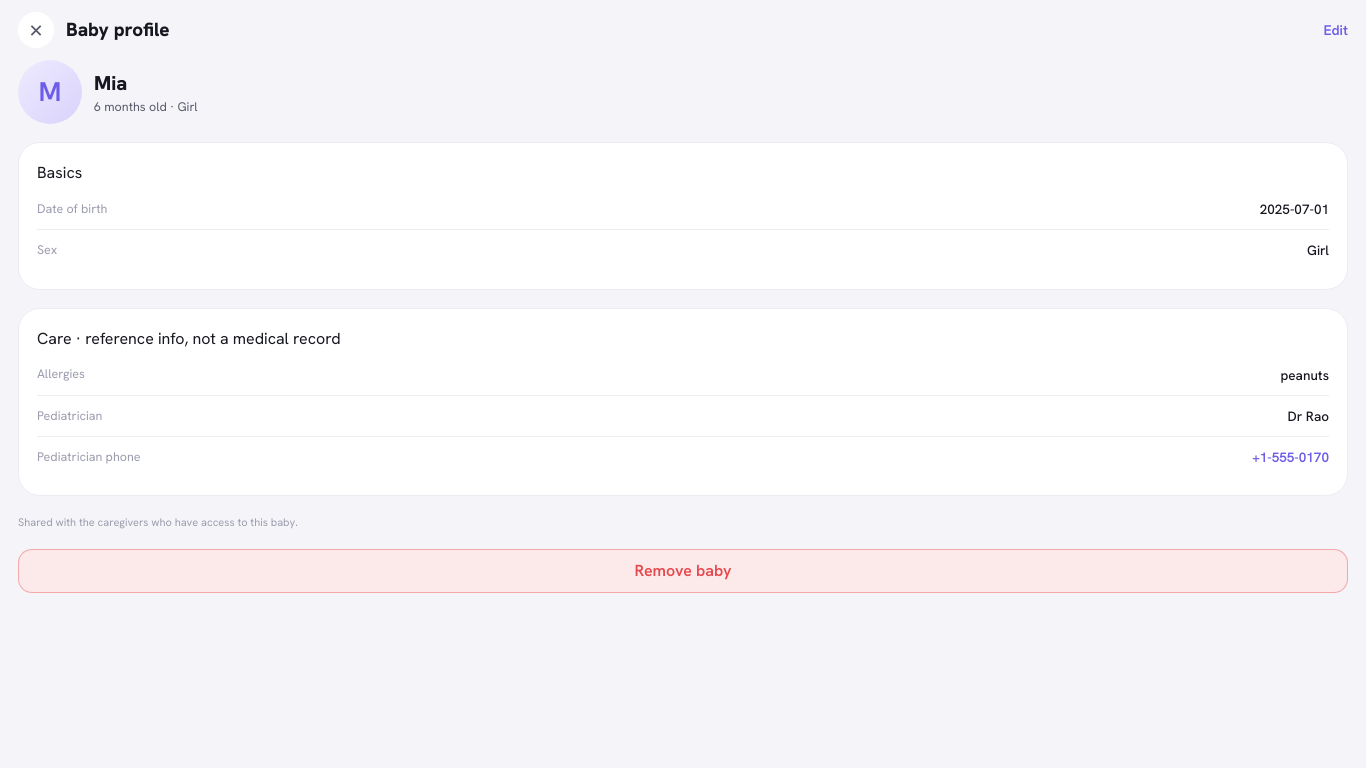
it: BabyDetailsScreen › Edit reveals the prefilled form and saves an update
Click the button "Edit".
click(1336, 30)  # box [1323, 20, 1348, 40]
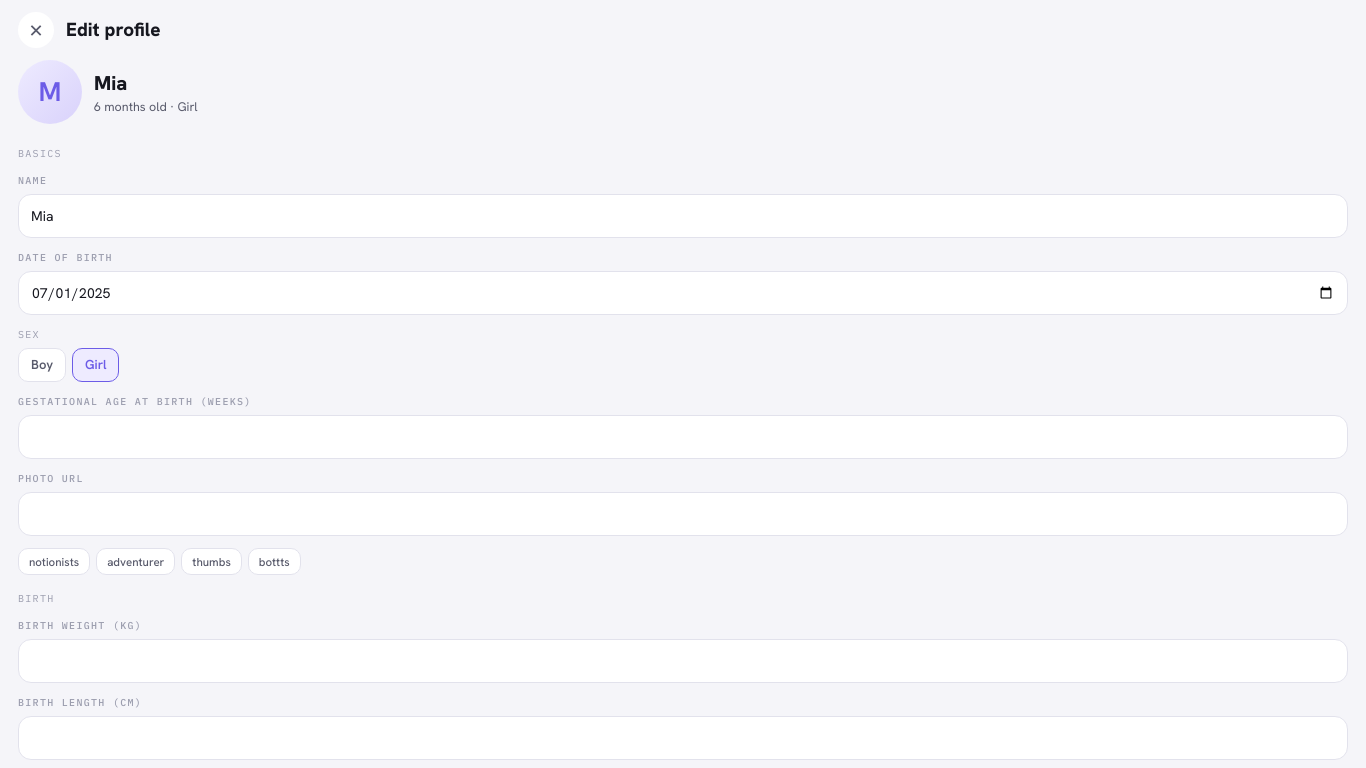
Expected: the text "Basics" is shown, [18, 147, 62, 160]
Replace the text in the field showing "Mia" with "Mia R" at (683, 216), box [18, 194, 1348, 238]
(page scrolled)
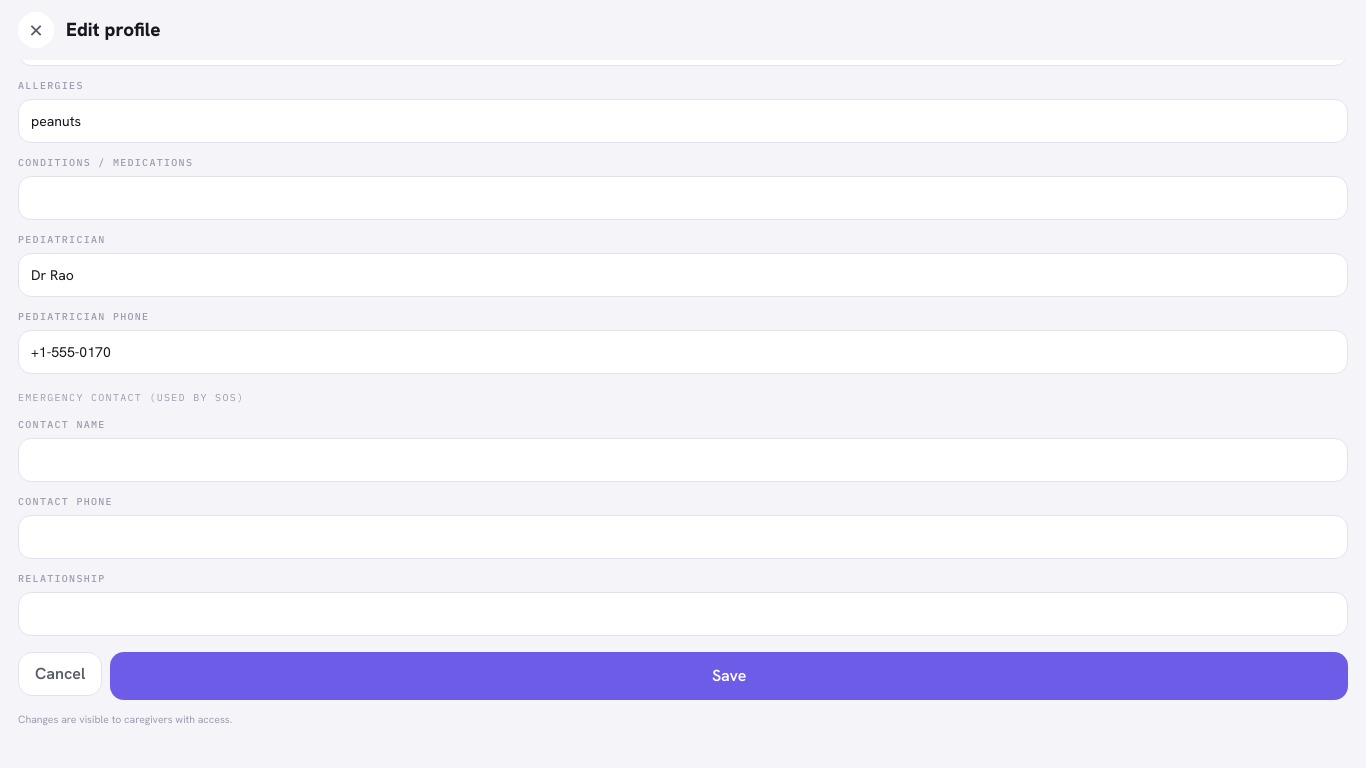
Click the button "Save".
click(729, 676)  # box [110, 652, 1348, 700]
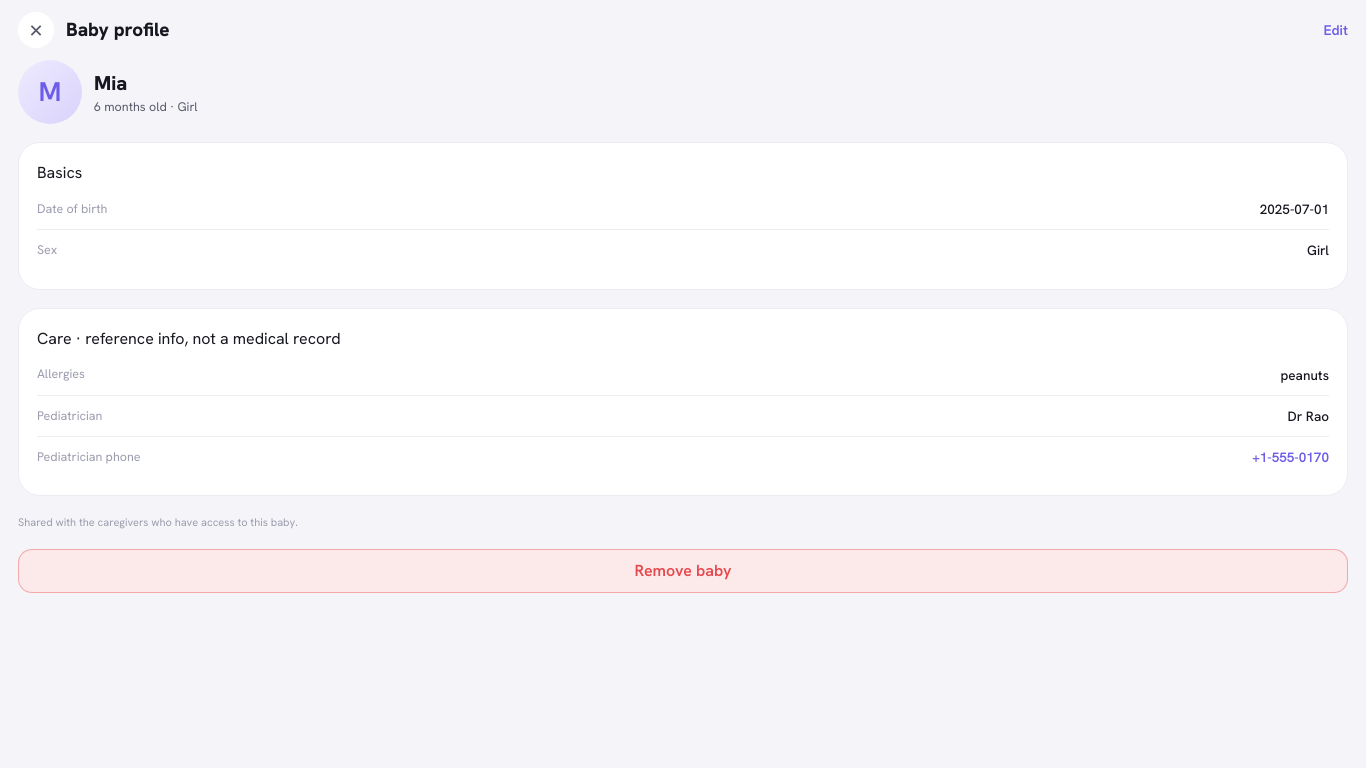
Expected: the text "peanuts" is shown, [1280, 364, 1329, 385]
